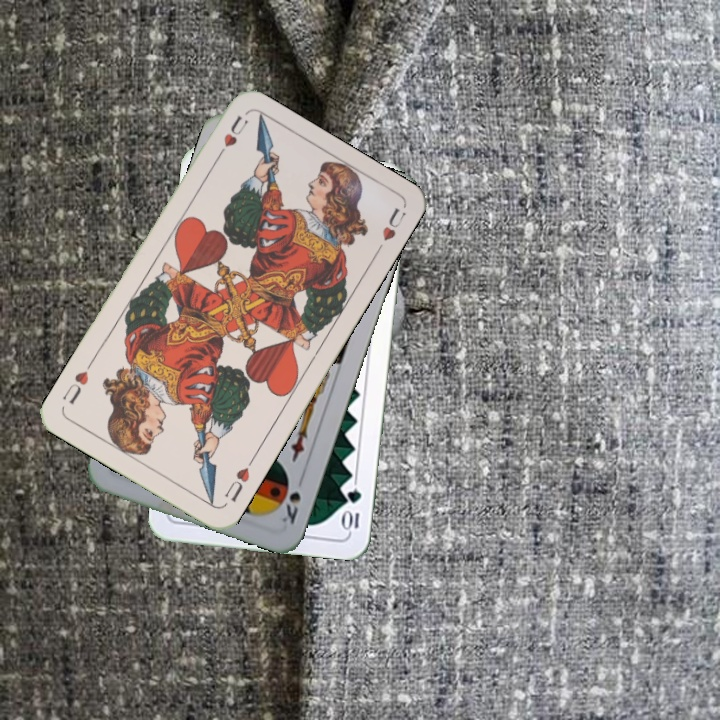G10: (340, 485, 364, 534)
HU: (211, 111, 251, 164), (220, 454, 257, 505)
SK: (277, 487, 304, 527)
